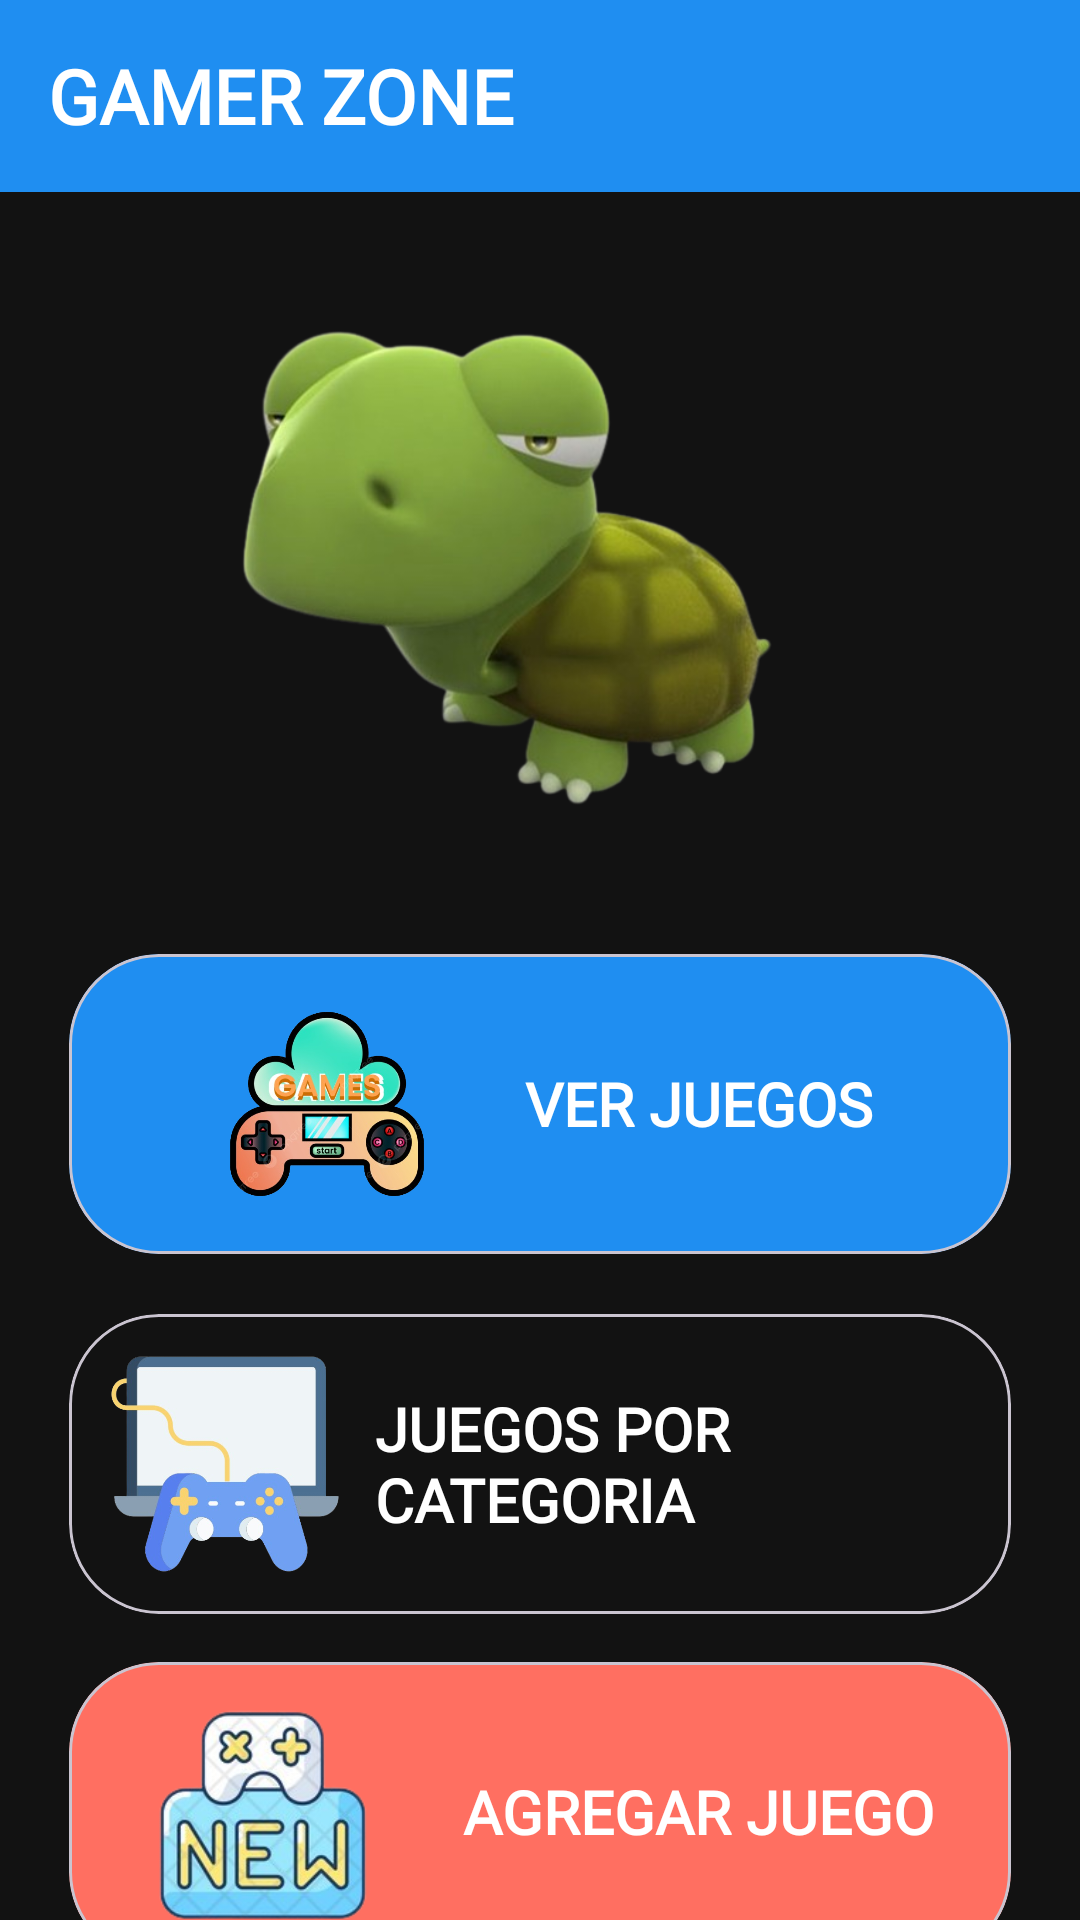

Icon bounding boxes for this 1080x1920 phone screenshot, format bbox=(x1, y1, x2, y2):
Icono de juegos: bbox=(230, 1012, 424, 1196)
